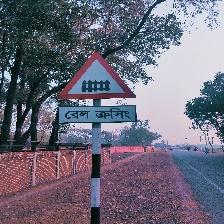Rail-crossing: (56, 51, 138, 125)
